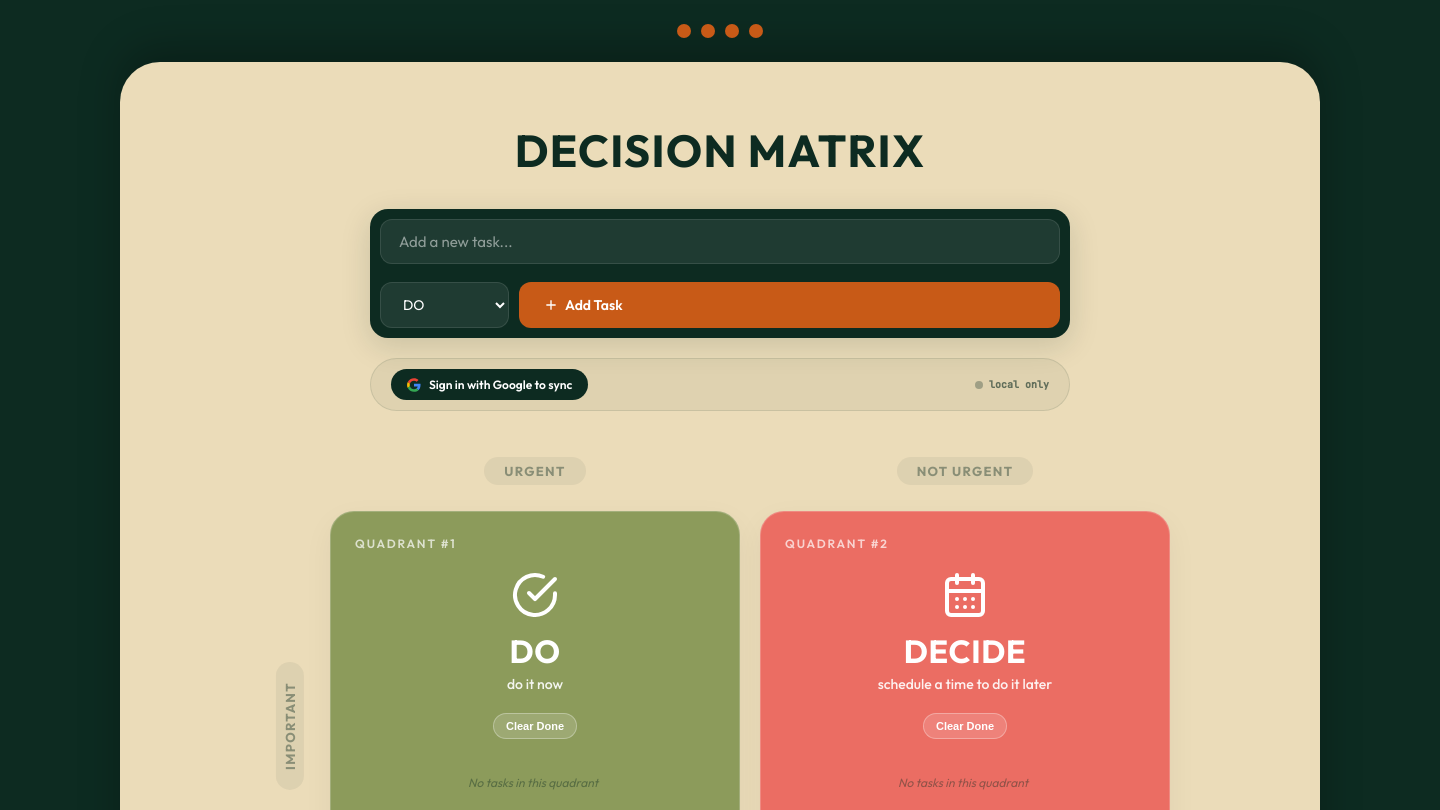
Test: App Integration Tests › adds a new task to the Do First quadrant
The width and height of the screenshot is (1440, 810).
# Find input and type
Type "Buy groceries" into the field with placeholder "Add a new task..." at (720, 242), box [380, 219, 1060, 264]
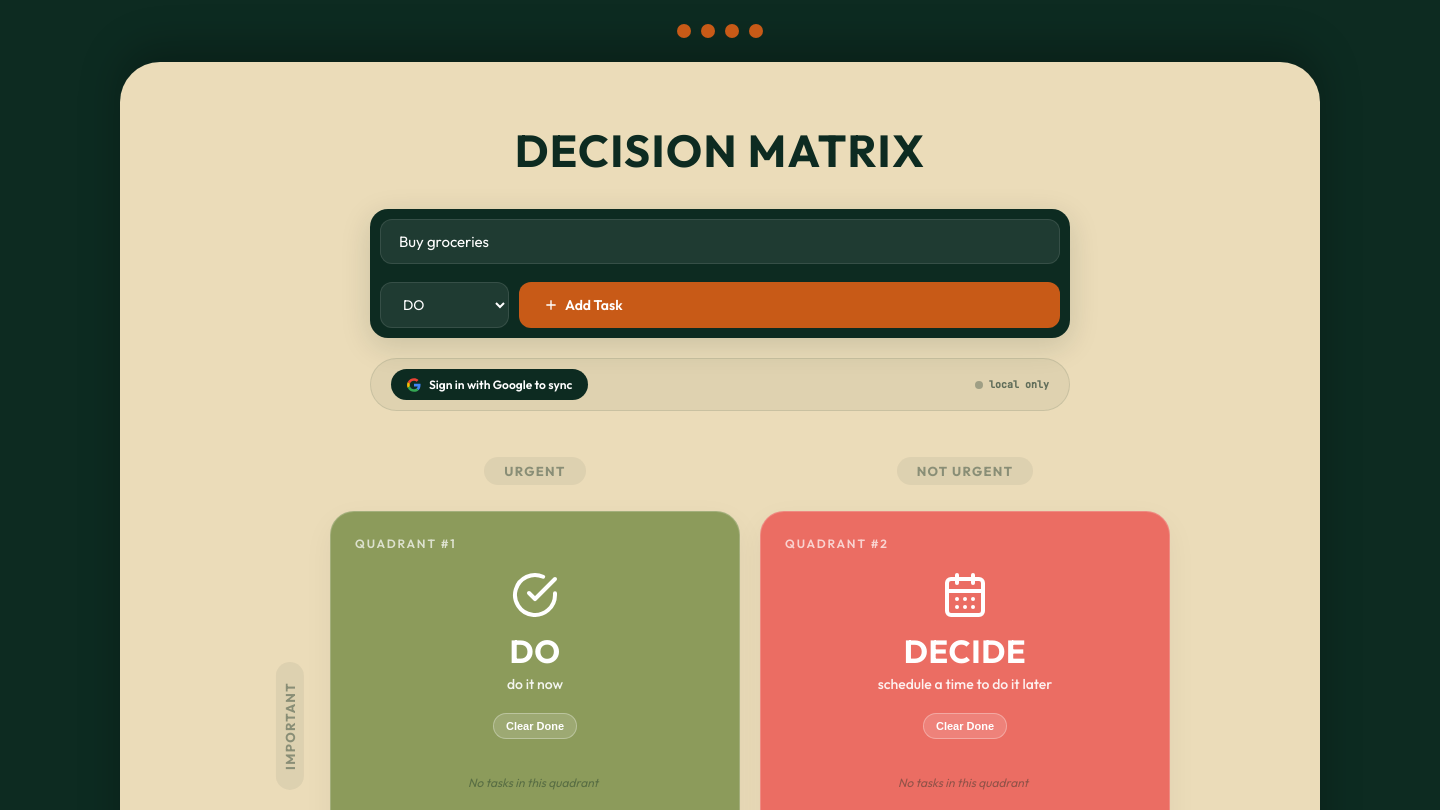
# Add task
Click the button "Add Task" at (594, 305), box [519, 282, 1060, 328]
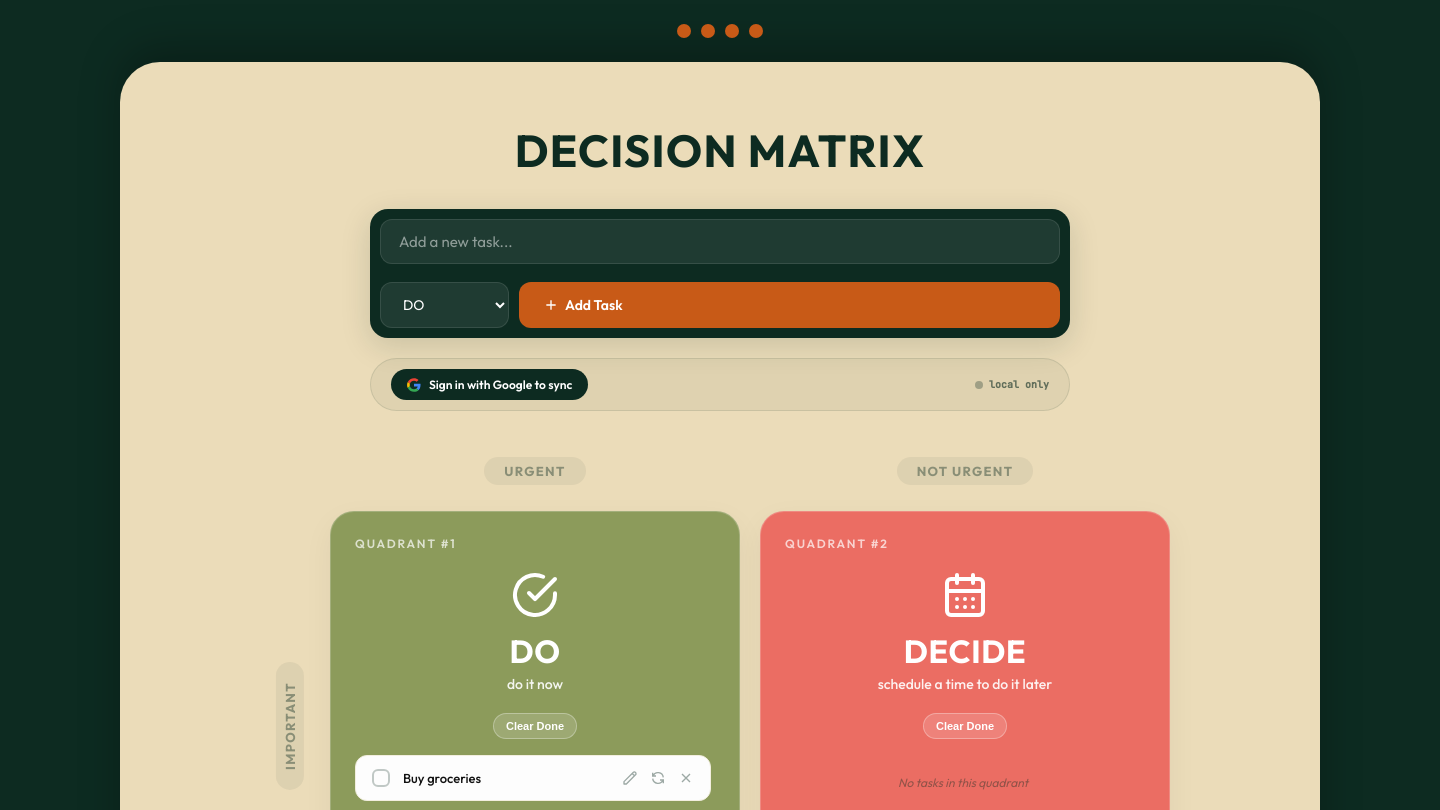
Check: the text "Buy groceries" is shown, box [403, 770, 481, 786]
